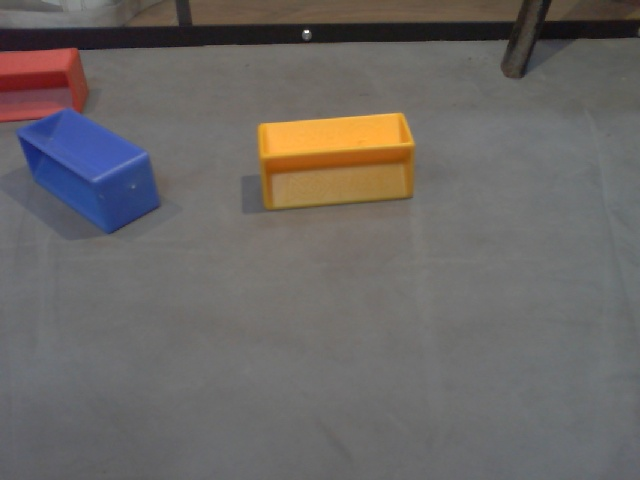BlueSample: (13, 100, 165, 238)
RedSample: (1, 44, 91, 124)
YellowSample: (252, 112, 419, 213)
